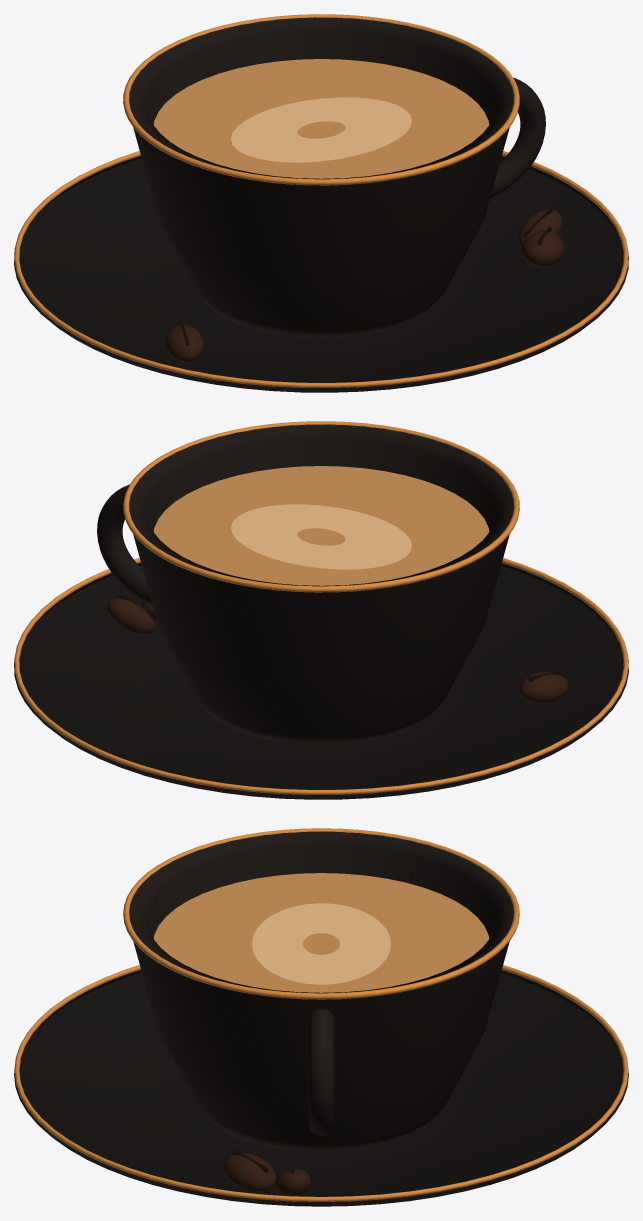
The model's file is coffee_cup.glb.
3 renders of one model, top to bottom at view 1: azimuth 30°, elevation 25°; view 2: azimuth 150°, elevation 25°; view 3: azimuth 270°, elevation 25°, orthographic.
Parts seen in each view (by area): view 1: Cup_Body, Saucer_Plate, Espresso_Crema, CoffeeCupGroup, Gold_Rim, Cup_Handle; view 2: Cup_Body, Saucer_Plate, Espresso_Crema, CoffeeCupGroup, Gold_Rim, Cup_Handle; view 3: Saucer_Plate, Cup_Body, Espresso_Crema, CoffeeCupGroup, Gold_Rim, Cup_Handle.
Part boxes in pixels (box(x1,y1,x2,y2)): Cup_Body: box(129, 17, 513, 337); Saucer_Plate: box(14, 156, 628, 392); Espresso_Crema: box(153, 59, 489, 178); CoffeeCupGroup: box(14, 97, 628, 387); Gold_Rim: box(123, 14, 519, 185); Cup_Handle: box(490, 77, 545, 198); Cup_Body: box(129, 424, 513, 744); Saucer_Plate: box(14, 563, 628, 799); Espresso_Crema: box(153, 466, 489, 585); CoffeeCupGroup: box(14, 504, 628, 794); Gold_Rim: box(123, 421, 519, 592); Cup_Handle: box(97, 484, 152, 605); Saucer_Plate: box(14, 970, 628, 1206); Cup_Body: box(129, 831, 513, 1151); Espresso_Crema: box(153, 873, 489, 992); CoffeeCupGroup: box(14, 903, 628, 1201); Gold_Rim: box(123, 828, 519, 999); Cup_Handle: box(308, 1009, 334, 1135).
Size of the model in its own units: 5.16 by 1.85 by 5.16.
